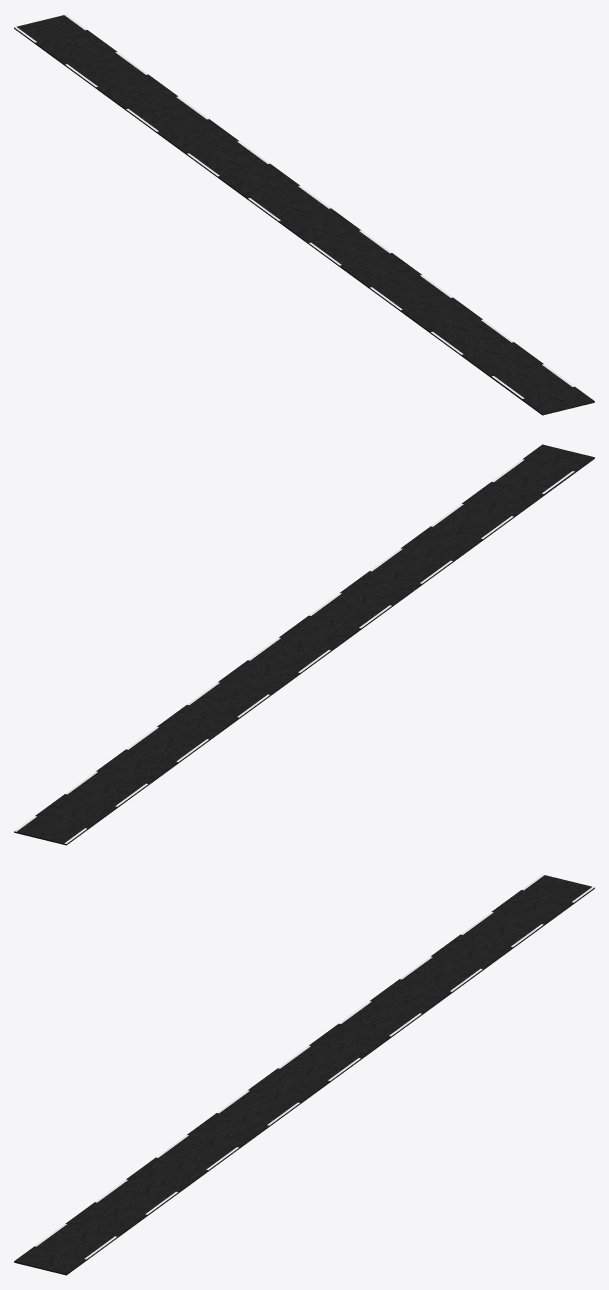
Rendered from center_.dae.
3 renders of one model, top to bottom at view 1: azimuth 30°, elevation 25°; view 2: azimuth 150°, elevation 25°; view 3: azimuth 330°, elevation 25°, orthographic.
Parts seen in each view (by area): view 1: group_0_019, group_0_008; view 2: group_0_019, group_0_008; view 3: group_0_019, group_0_008.
Part boxes in pixels (box(x1,y1,x2,y2)): group_0_019: box(17, 15, 594, 413); group_0_008: box(14, 27, 594, 415); group_0_019: box(16, 444, 594, 843); group_0_008: box(14, 457, 594, 845); group_0_019: box(14, 875, 591, 1273); group_0_008: box(14, 887, 594, 1275).
Bounding box in the file's own units: 4 × 69.69 × 0.1329.
2 materials, 1 textured.
